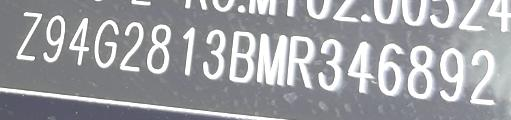letter: (376, 42, 406, 98), (255, 32, 286, 86), (468, 47, 496, 106), (406, 43, 436, 98), (345, 40, 375, 94), (437, 45, 465, 102), (228, 29, 256, 85), (286, 33, 314, 87), (15, 9, 43, 62), (145, 22, 173, 75), (317, 36, 344, 90), (201, 27, 227, 81), (92, 17, 118, 70), (118, 19, 143, 71), (42, 14, 67, 65), (68, 14, 91, 68), (180, 26, 197, 79)
